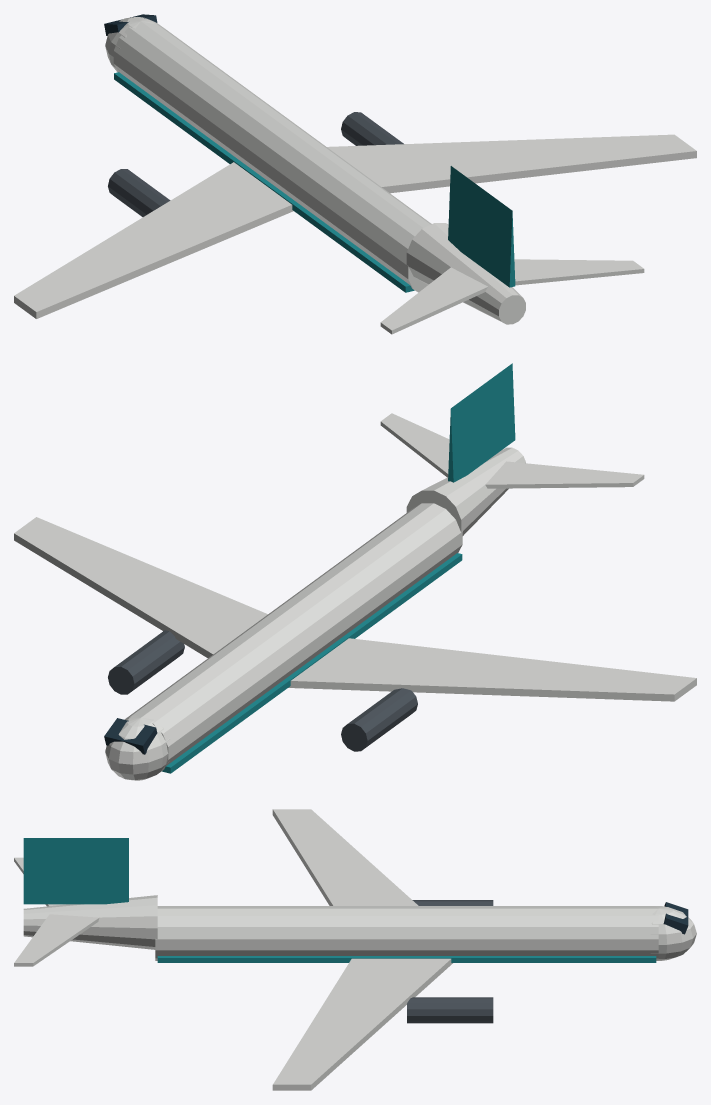
3 renders of one model, top to bottom at view 1: azimuth 30°, elevation 25°; view 2: azimuth 150°, elevation 25°; view 3: azimuth 270°, elevation 25°, orthographic. The views are drawn at different scales.
Parts seen in each view (by area): view 1: CLPlane; view 2: CLPlane; view 3: CLPlane.
Boxes of the visible parts, box(x1,y1,x2,y2) form: CLPlane: box(14, 14, 696, 334); CLPlane: box(14, 363, 696, 780); CLPlane: box(14, 809, 696, 1090).
Size of the model in its own units: 13.6 by 3.12 by 14.25.
